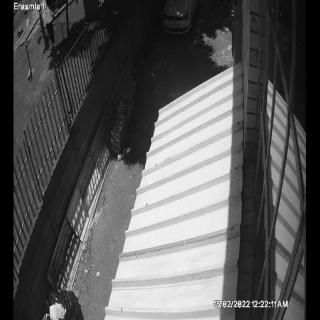car: (162, 0, 196, 33)
